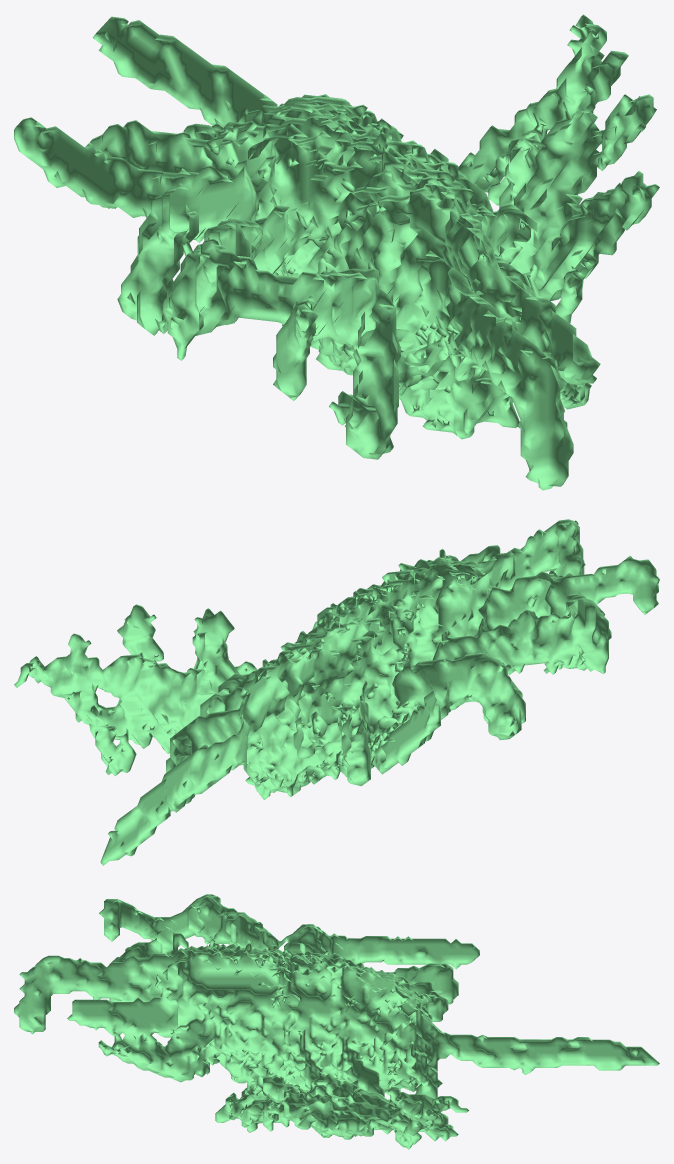
The model's file is osteocyte_37.glb.
3 views of the same model, one above another, from view 1: azimuth 30°, elevation 25°; view 2: azimuth 150°, elevation 25°; view 3: azimuth 270°, elevation 25° (orthographic). The views are drawn at different scales.
Visible parts, largest first — view 1: osteocyte_37; view 2: osteocyte_37; view 3: osteocyte_37.
Part boxes in pixels (x1=…): osteocyte_37: x1=14, y1=14, x2=659, y2=490; osteocyte_37: x1=14, y1=519, x2=659, y2=865; osteocyte_37: x1=14, y1=894, x2=659, y2=1149.
Size of the model in its own units: 37.07 by 16.85 by 58.74.
